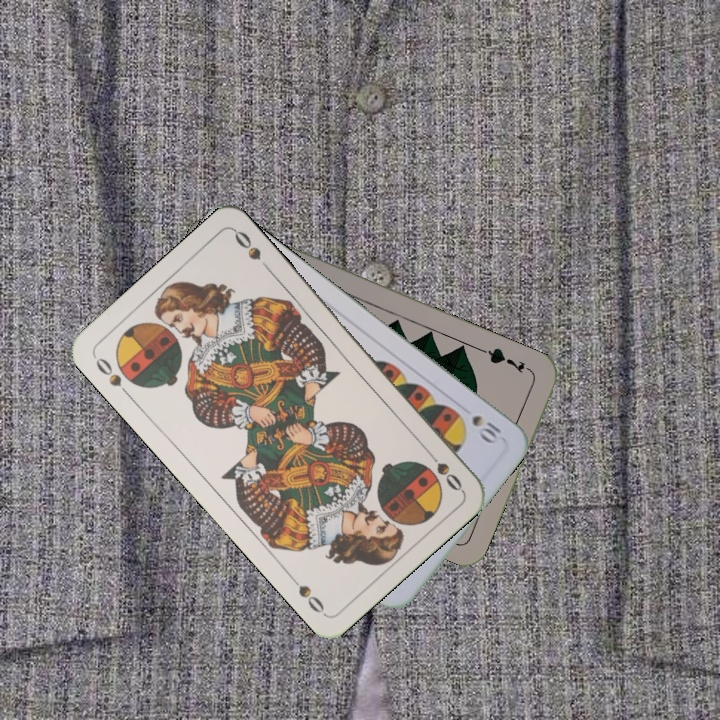G7: (478, 343, 535, 376)
S10: (467, 410, 504, 444)
SO: (421, 444, 465, 494), (89, 352, 134, 400)
